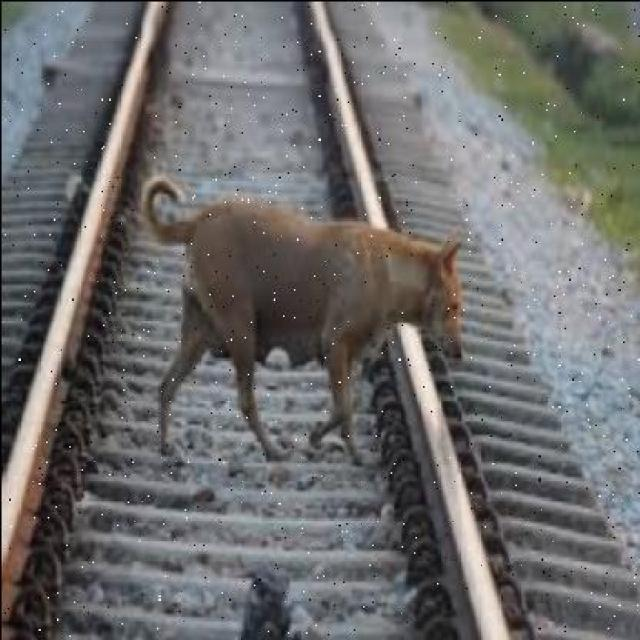danger: (132, 148, 462, 497)
rail: (3, 0, 639, 640)
